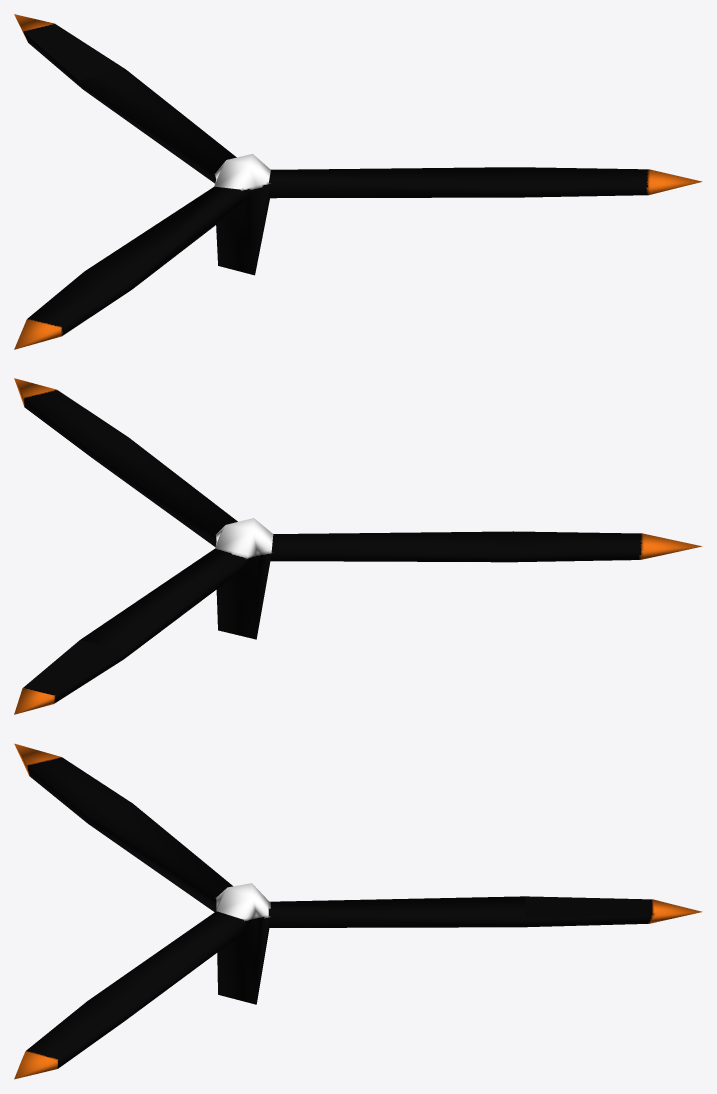
File: low_helice_g.obj
3 views of the same model, one above another, from view 1: azimuth 30°, elevation 25°; view 2: azimuth 150°, elevation 25°; view 3: azimuth 270°, elevation 25° (orthographic).
Parts seen in each view (by area): view 1: polySurface3 low_low_helices low; view 2: polySurface3 low_low_helices low; view 3: polySurface3 low_low_helices low.
Boxes of the visible parts, left/top/right/bottom form: polySurface3 low_low_helices low: left=14, top=14, right=702, bottom=349; polySurface3 low_low_helices low: left=14, top=378, right=702, bottom=714; polySurface3 low_low_helices low: left=14, top=743, right=702, bottom=1079.
Bounding box in the file's own units: 168 × 24.94 × 145.
